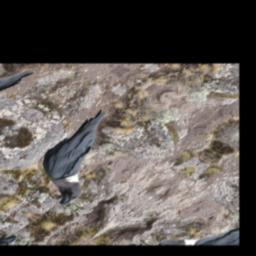Crow: (4, 107, 161, 208)
